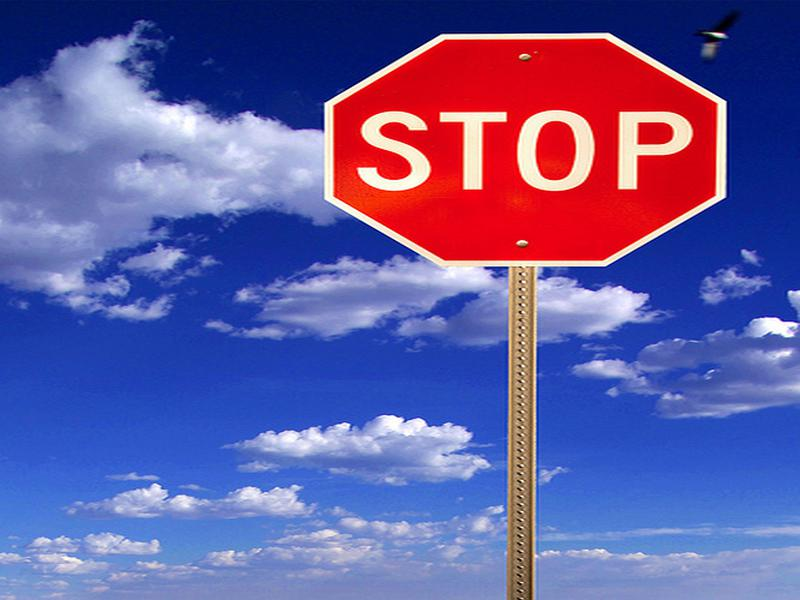stop: (309, 27, 737, 272)
